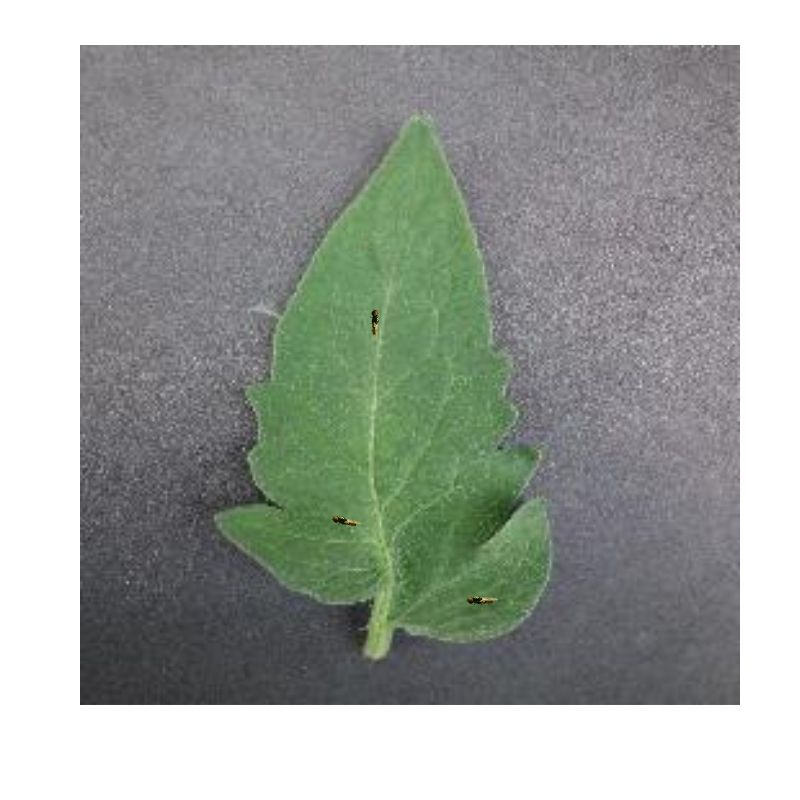liriomyza: (463, 594, 499, 607), (331, 514, 362, 529), (369, 306, 384, 336)
